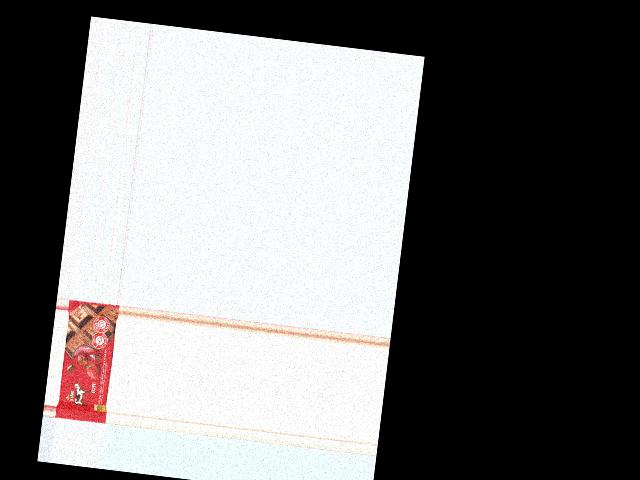chocolate: (55, 299, 119, 424)
